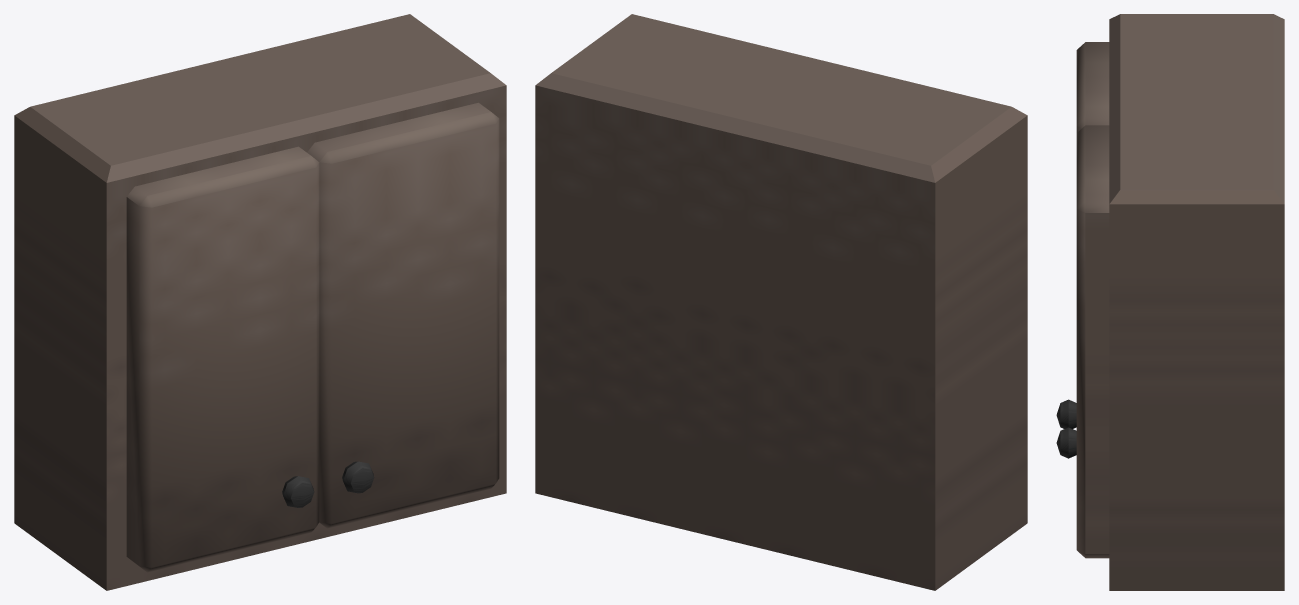
File: kitchencabinet_styleB.gltf
The picture shows the model from 3 angles, left to right: view 1: azimuth 30°, elevation 25°; view 2: azimuth 150°, elevation 25°; view 3: azimuth 270°, elevation 25°; orthographic projection. The views are drawn at different scales.
Visible parts, largest first — view 1: kitchencabinet_styleB; view 2: kitchencabinet_styleB; view 3: kitchencabinet_styleB.
Part boxes in pixels (left/top/right/bottom): kitchencabinet_styleB: left=14, top=14, right=506, bottom=590; kitchencabinet_styleB: left=535, top=14, right=1027, bottom=590; kitchencabinet_styleB: left=1056, top=14, right=1284, bottom=590.
Bounding box in the file's own units: 2 × 2 × 1.04.
Materials: 1 (1 with a texture image).
